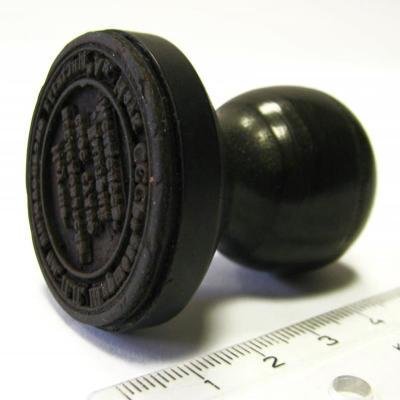other: (24, 29, 378, 335)
